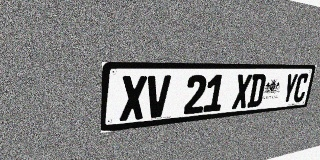1: (203, 74, 226, 112)
2: (184, 75, 207, 114)
C: (292, 73, 310, 103)
D: (247, 74, 267, 108)
V: (145, 75, 171, 119)
X: (120, 76, 147, 121), (232, 74, 252, 109)
Y: (281, 73, 299, 104)
